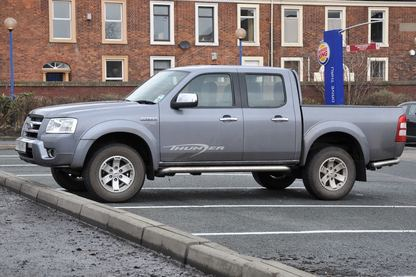truck: (15, 41, 407, 203)
